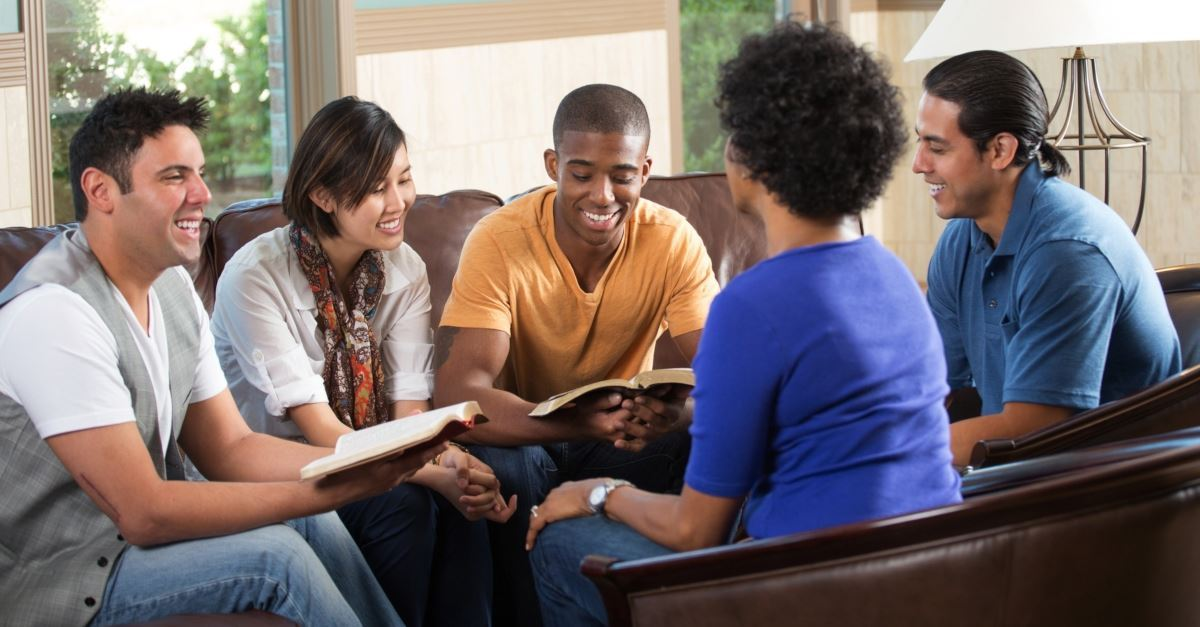Person: (8, 90, 254, 627), (667, 36, 922, 536), (449, 86, 695, 508), (908, 49, 1149, 413), (276, 113, 435, 627)
